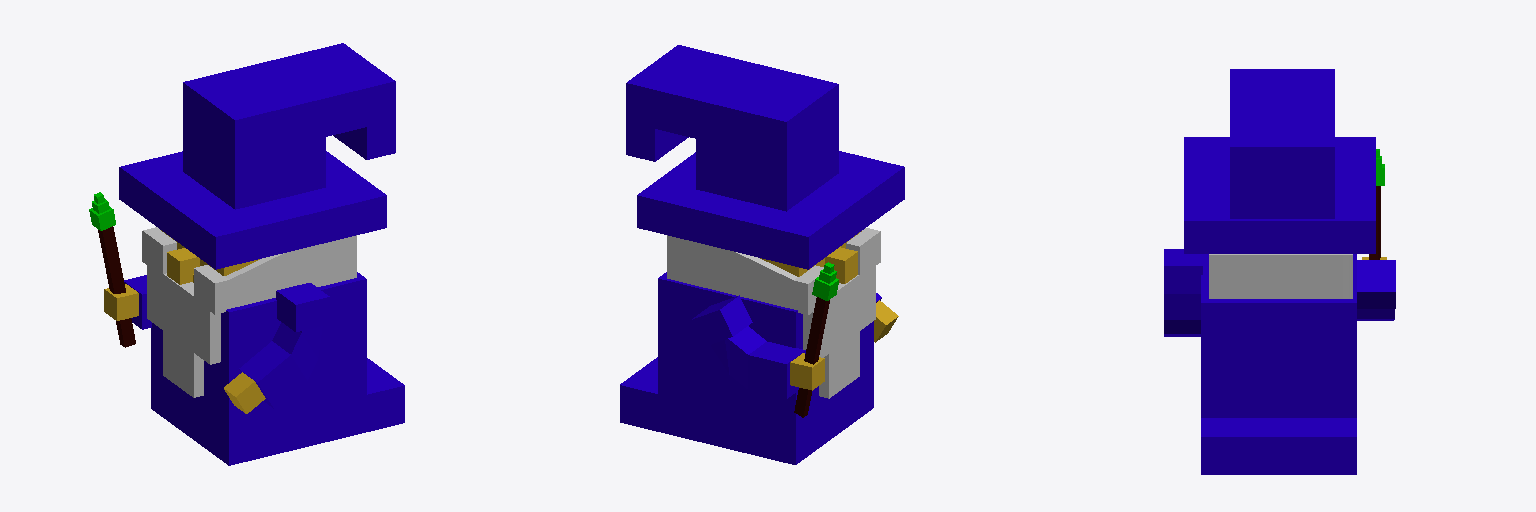
Rendered from wizard.obj.
The picture shows the model from 3 angles: view 1: azimuth 30°, elevation 25°; view 2: azimuth 150°, elevation 25°; view 3: azimuth 270°, elevation 25°; orthographic projection.
Visible parts, largest first — view 1: Cube.010_Cube.013; view 2: Cube.010_Cube.013; view 3: Cube.010_Cube.013.
Boxes of the visible parts, box(x1,y1,x2,y2) form: Cube.010_Cube.013: box(89, 43, 404, 465); Cube.010_Cube.013: box(620, 45, 904, 464); Cube.010_Cube.013: box(1164, 69, 1395, 474).
Size of the model in its own units: 3.66 by 5.03 by 3.21.